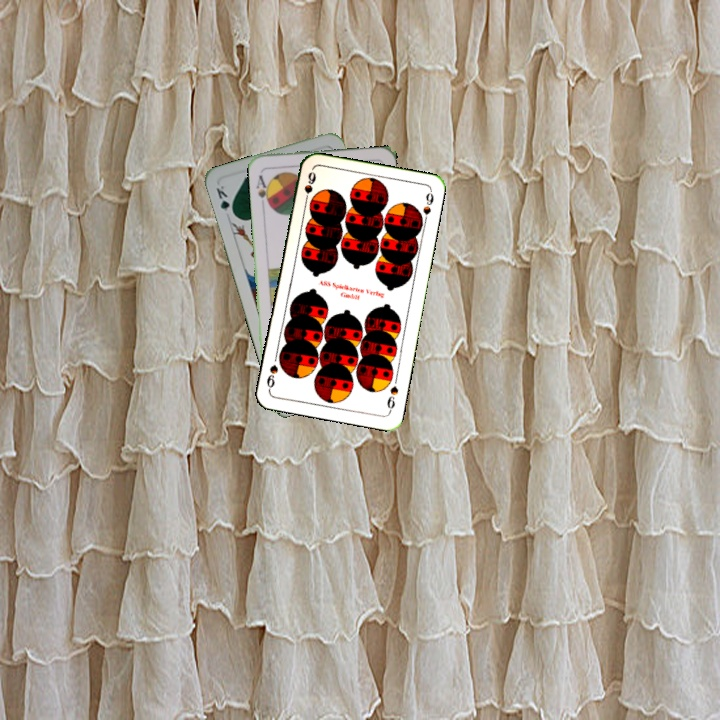GK: (212, 181, 237, 219)
S9: (300, 167, 318, 207), (383, 382, 401, 415)
SA: (252, 171, 273, 209)
